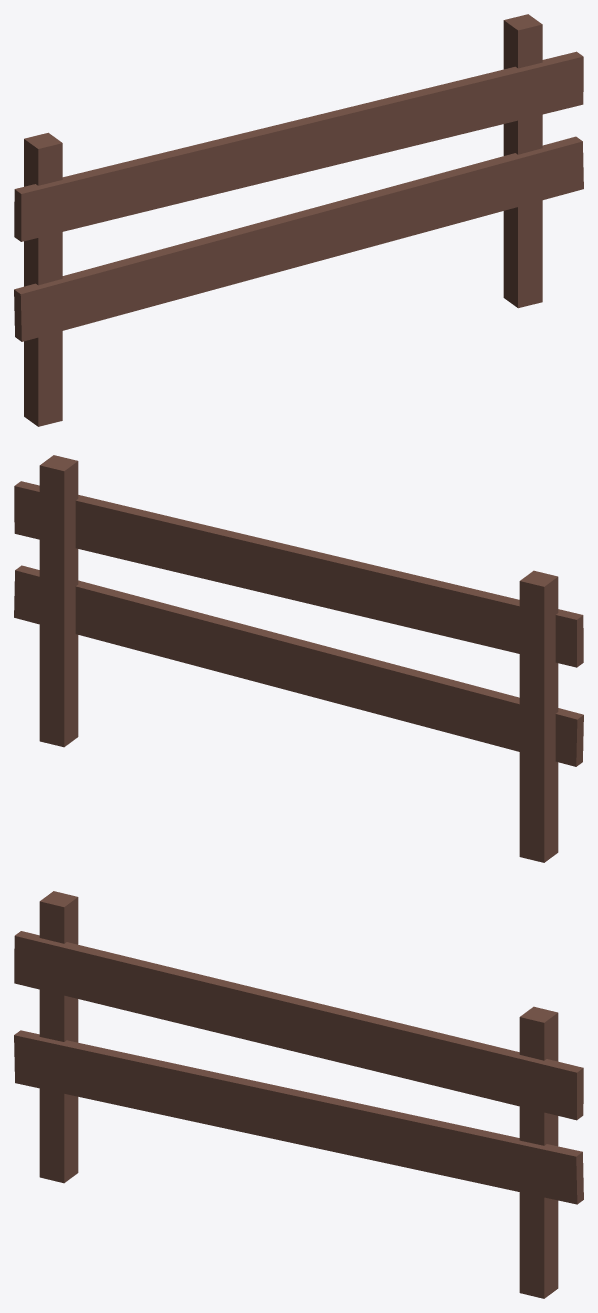
File: props_002.glb
3 views of the same model, one above another, from view 1: azimuth 30°, elevation 25°; view 2: azimuth 150°, elevation 25°; view 3: azimuth 330°, elevation 25° (orthographic).
Visible parts, largest first — view 1: props_002; view 2: props_002; view 3: props_002.
Boxes of the visible parts, box(x1,y1,x2,y2) form: props_002: box(14, 14, 583, 426); props_002: box(14, 455, 583, 862); props_002: box(14, 891, 583, 1298).
Size of the model in its own units: 4.26 by 2 by 0.2618.
Materials: 1 (1 with a texture image).
